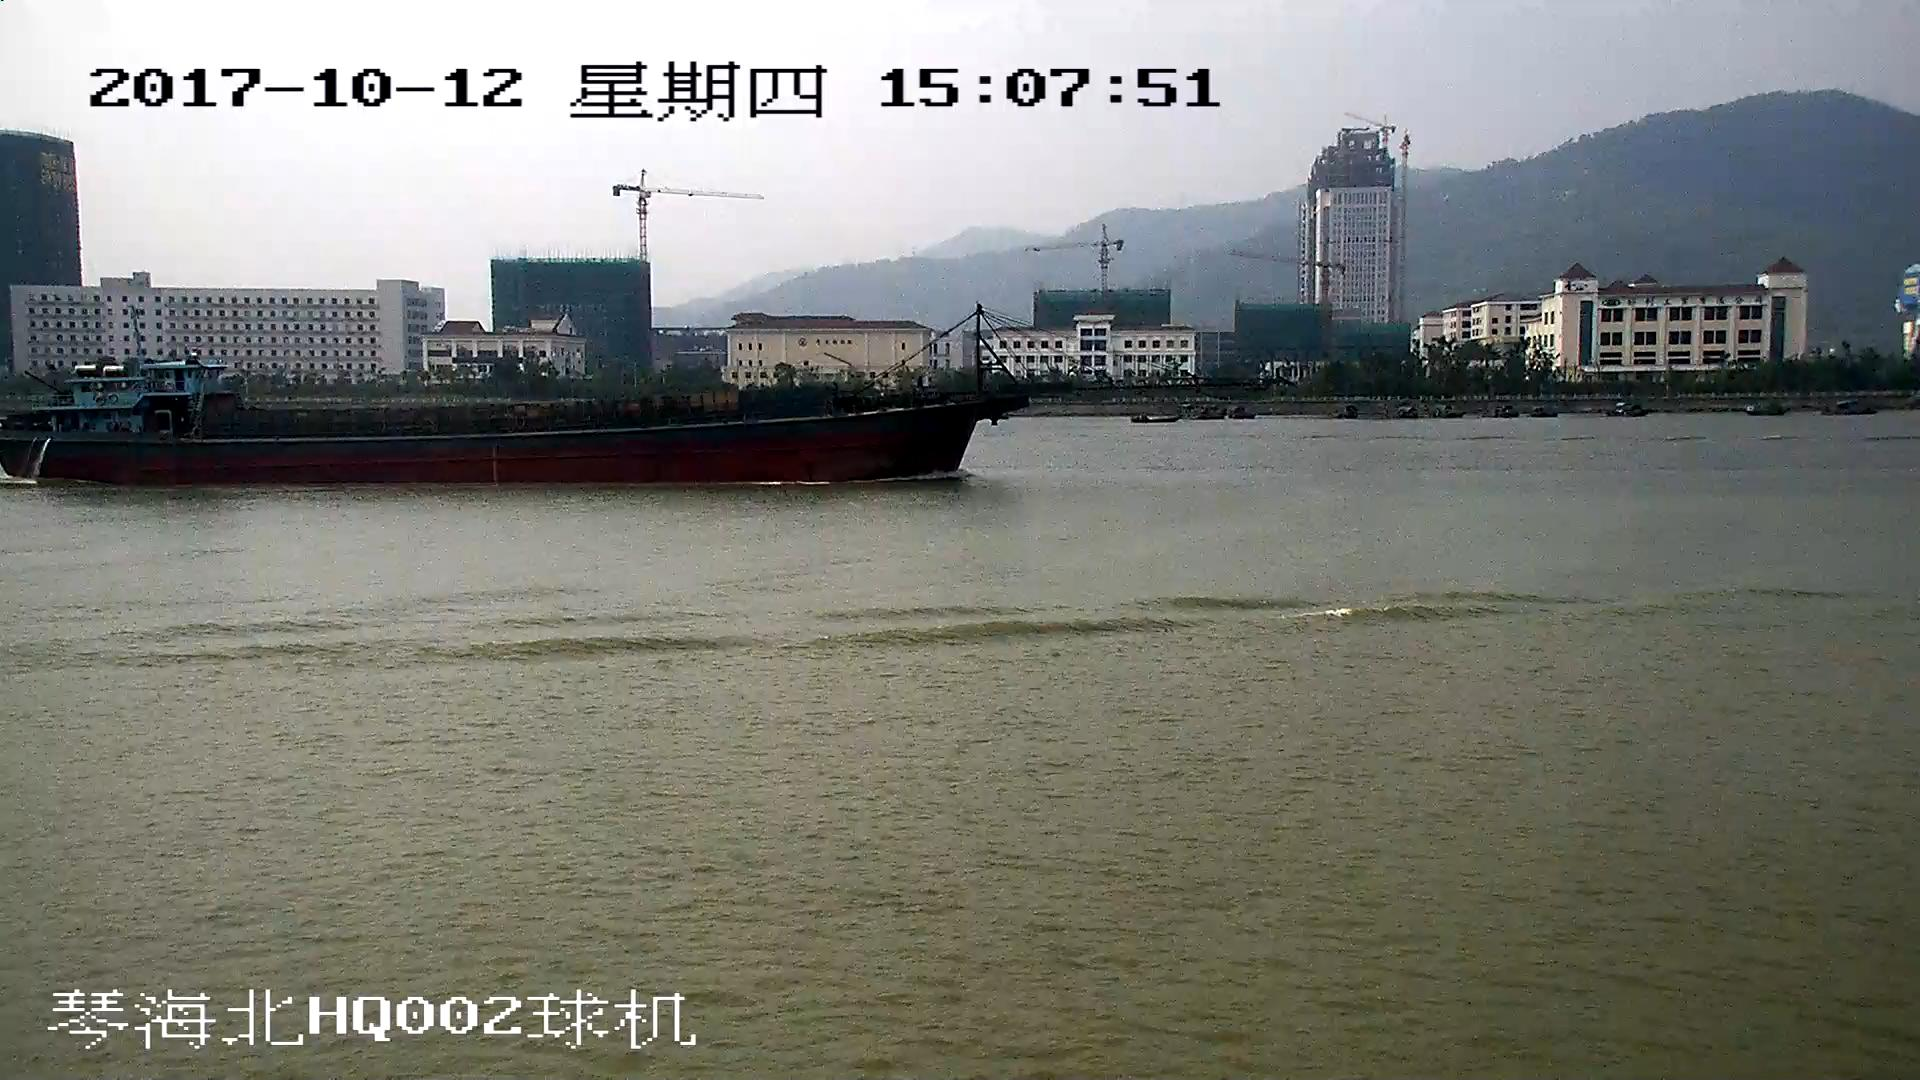bulk cargo carrier: (1, 305, 1164, 483)
